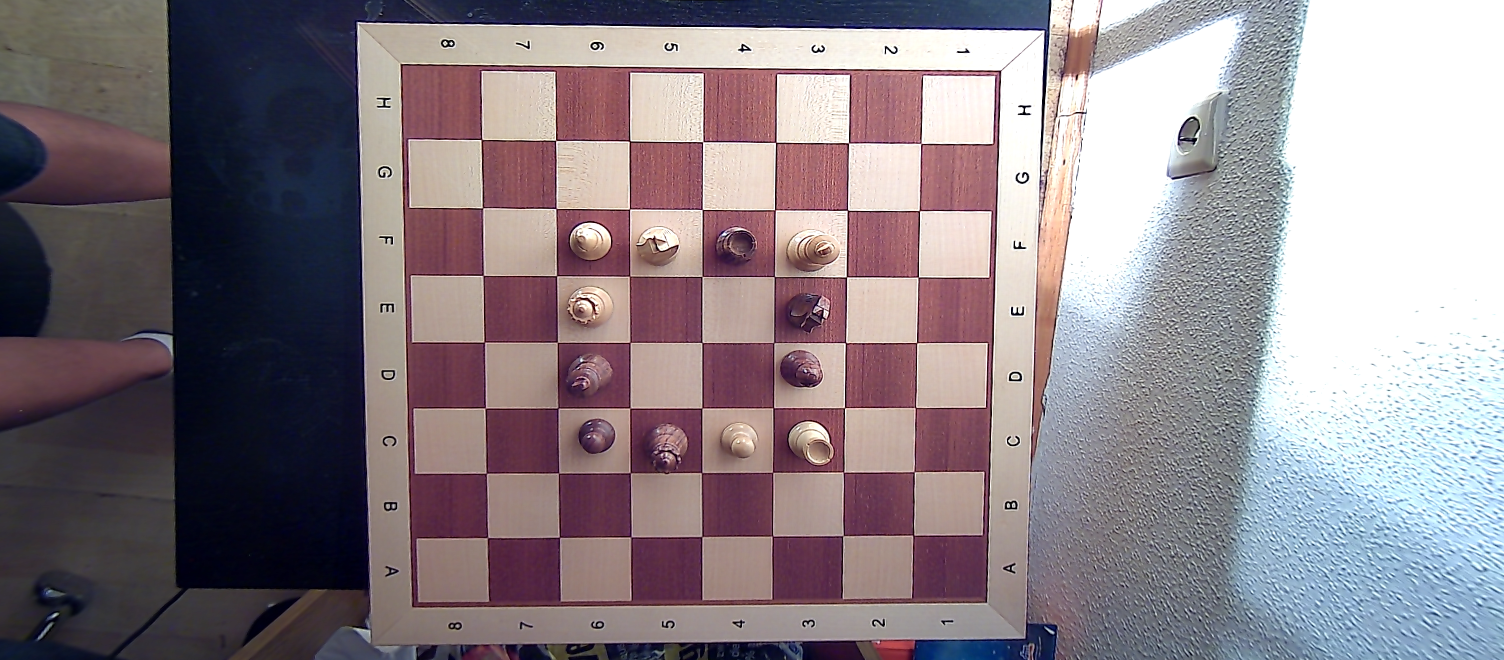black-bishop: (778, 347, 828, 392)
black-king: (563, 349, 618, 401)
black-knight: (781, 287, 835, 330)
black-pawn: (572, 412, 618, 460)
black-queen: (641, 423, 688, 470)
black-rook: (711, 221, 761, 269)
white-bishop: (564, 216, 616, 266)
white-king: (783, 226, 843, 277)
white-knight: (632, 223, 681, 273)
white-pawn: (717, 418, 761, 464)
white-queen: (564, 284, 615, 331)
white-rook: (785, 416, 839, 470)
